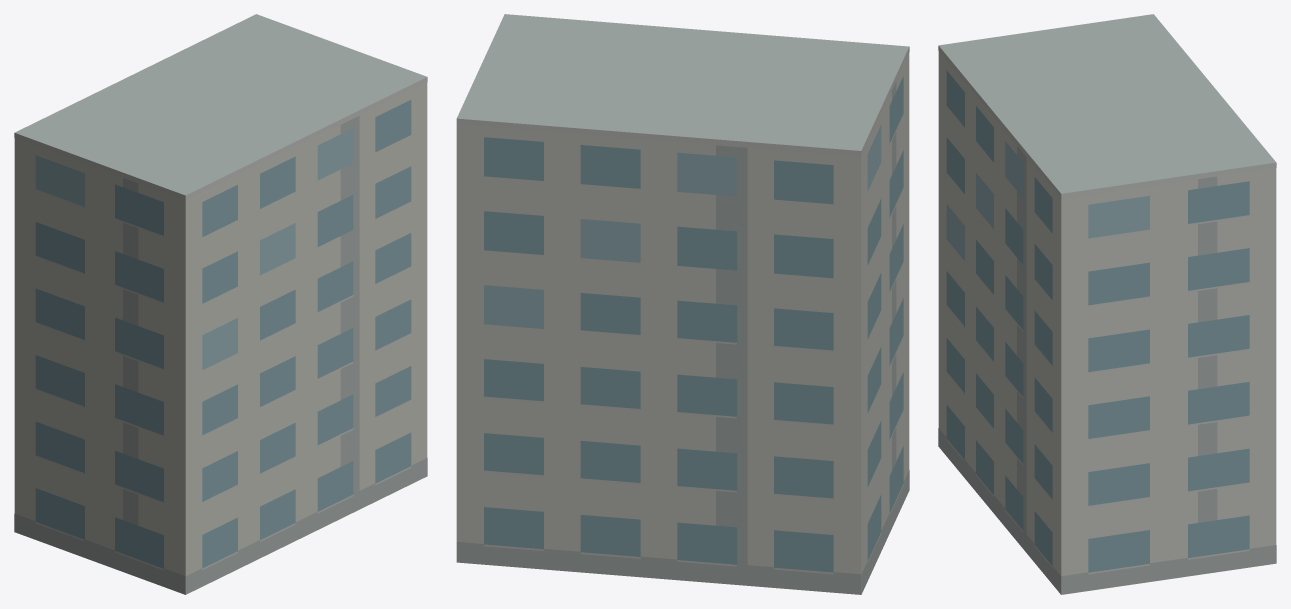
Rendered from survey-upis-32788389.glb.
The picture shows the model from 3 angles, left to right: view 1: azimuth 30°, elevation 25°; view 2: azimuth 150°, elevation 25°; view 3: azimuth 270°, elevation 25°; orthographic projection. The views are drawn at different scales.
Parts seen in each view (by area): view 1: survey-upis-32788389.tmp; view 2: survey-upis-32788389.tmp; view 3: survey-upis-32788389.tmp.
Part boxes in pixels (x1,y1,x2,y2): survey-upis-32788389.tmp: [14, 14, 427, 594]; survey-upis-32788389.tmp: [456, 14, 909, 594]; survey-upis-32788389.tmp: [938, 14, 1276, 594].
Size of the model in its own units: 17.61 by 18.3 by 13.99.
